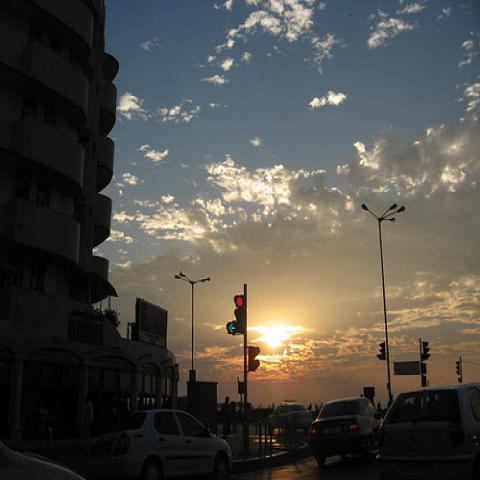car: (375, 384, 479, 474), (125, 410, 233, 479), (309, 398, 384, 469)
